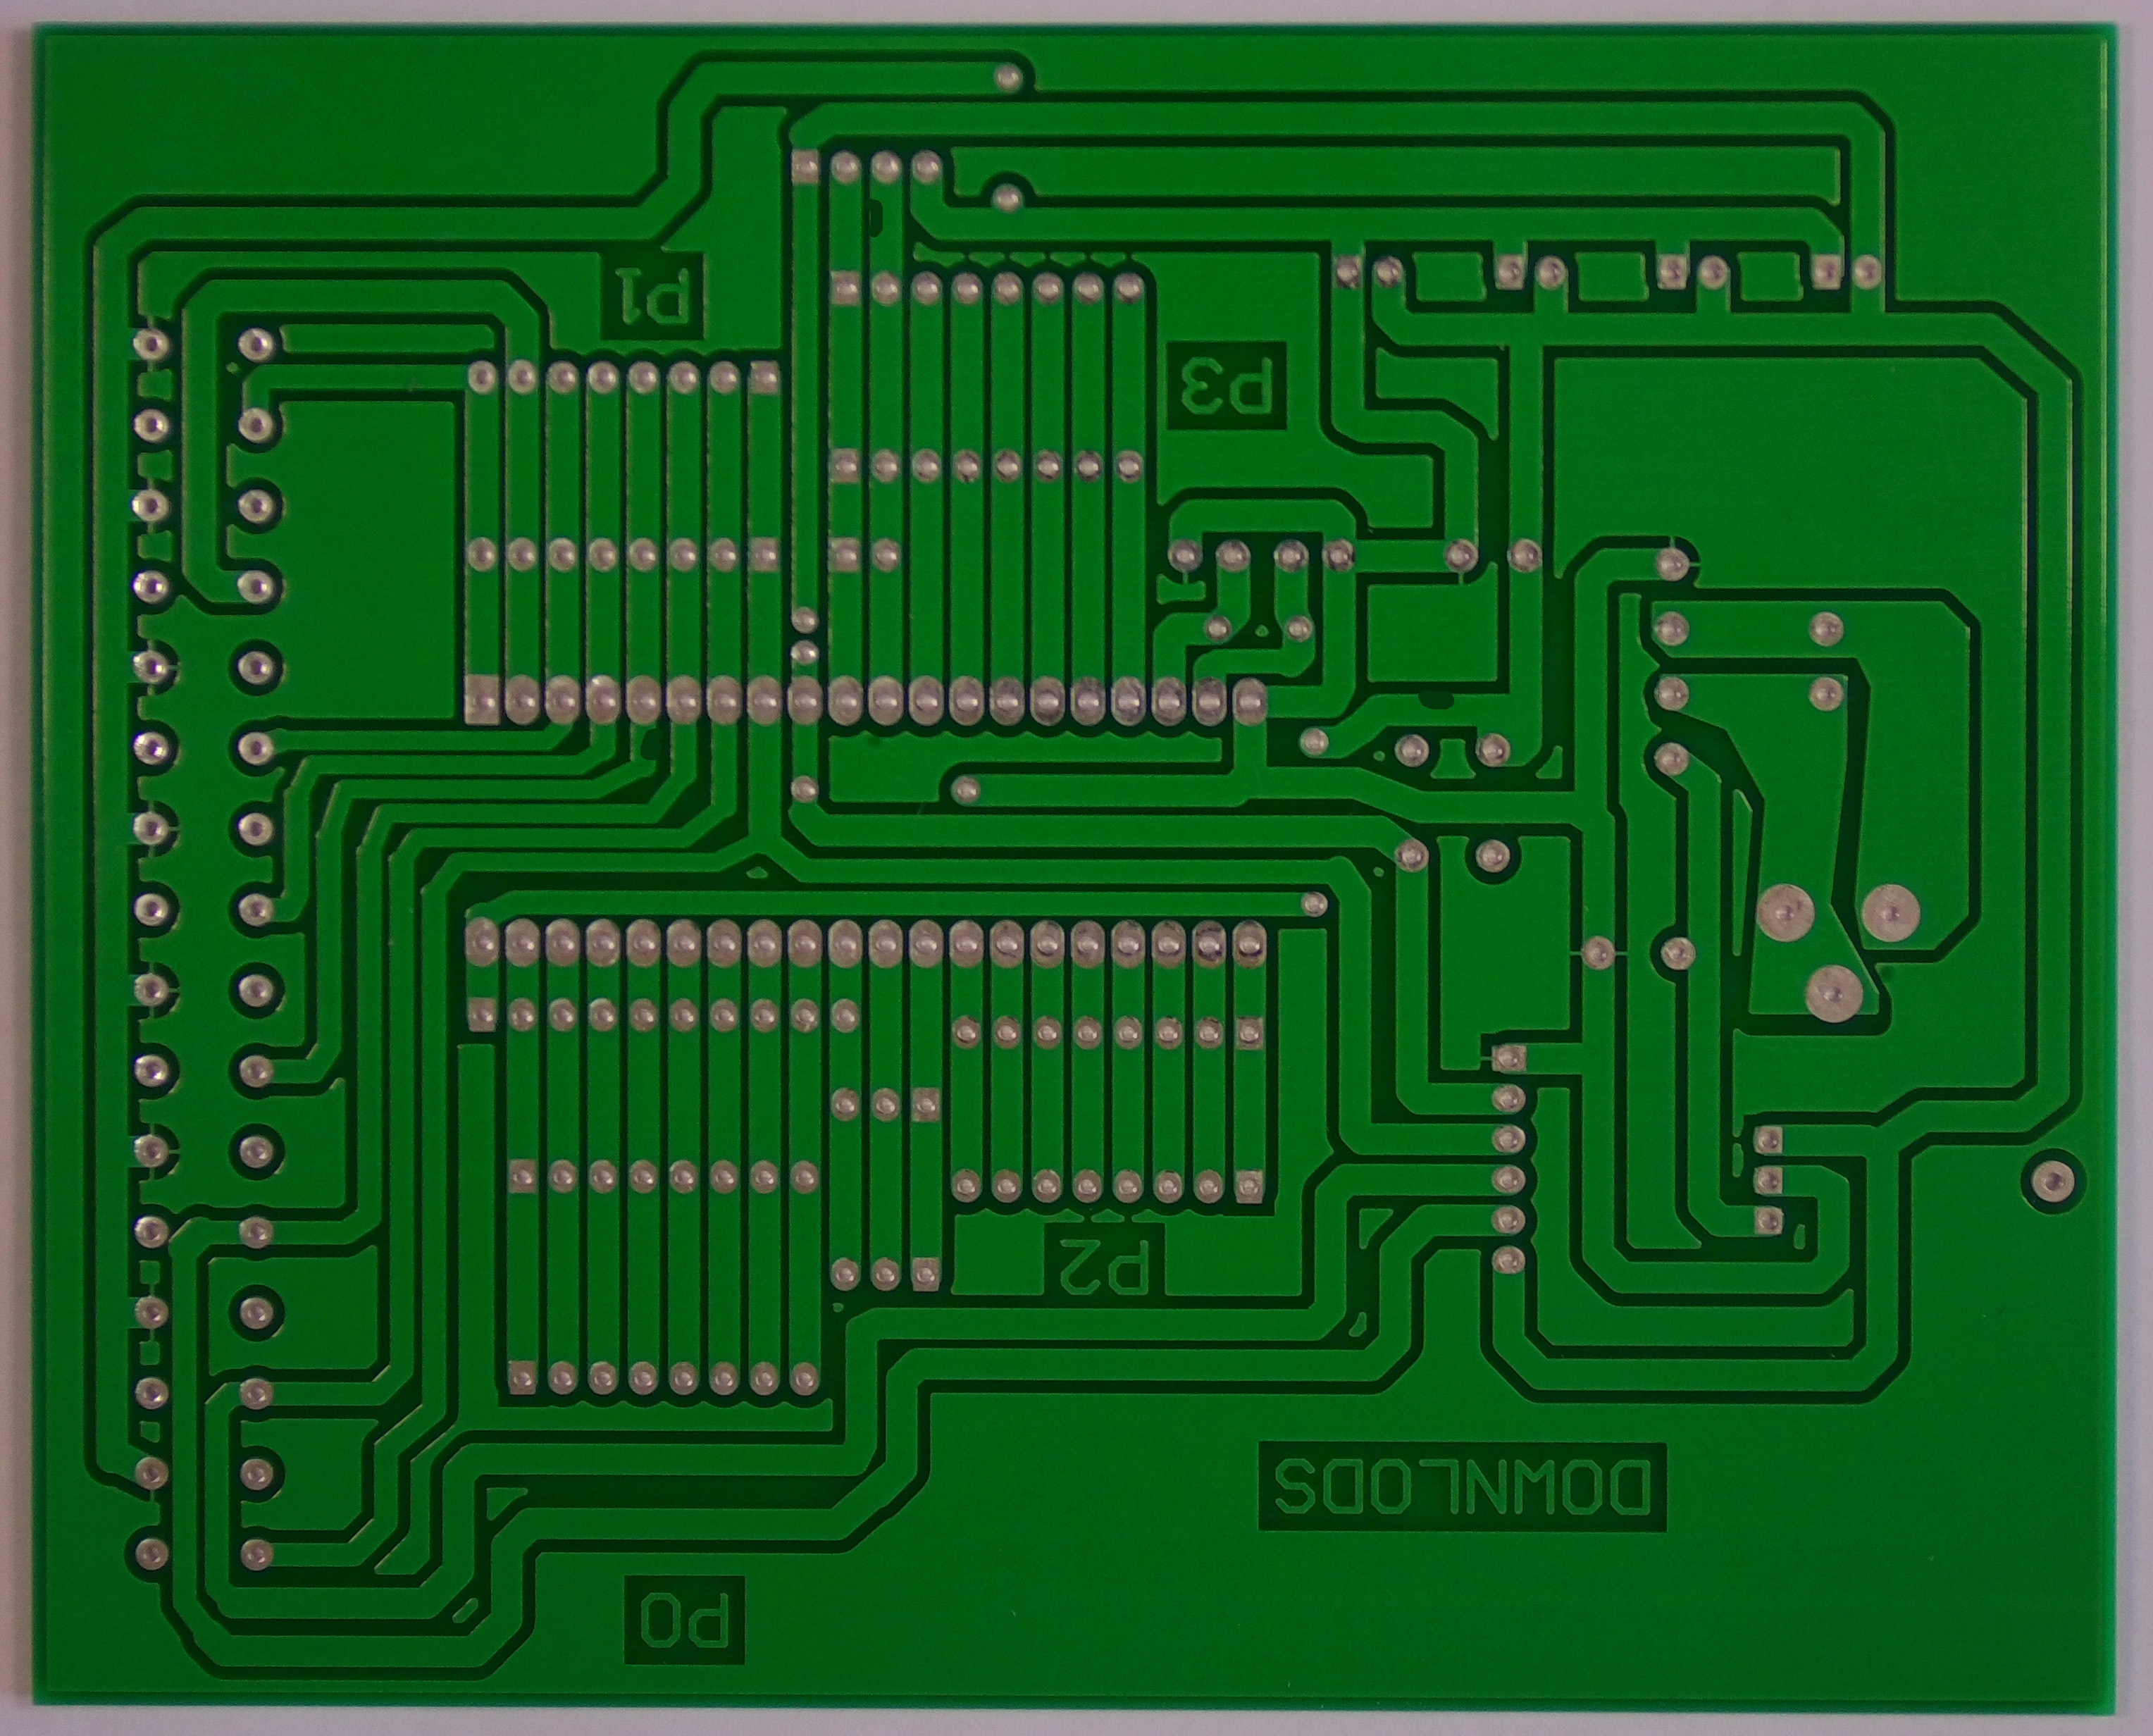mouse_bite: (1404, 677, 1467, 721), (859, 186, 898, 245), (628, 719, 669, 774)
